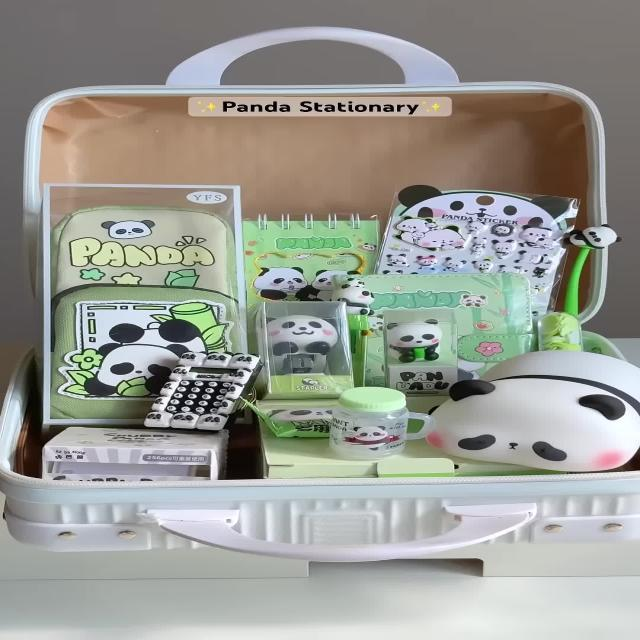holder: (45, 42, 625, 550)
